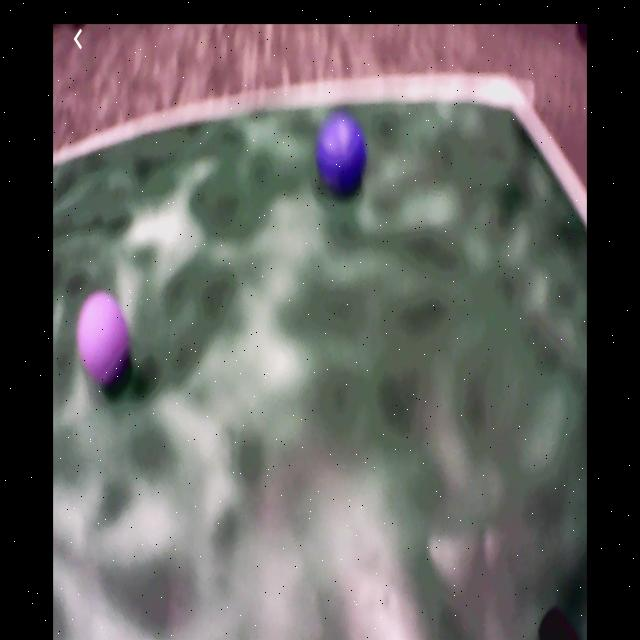ball: (79, 293, 129, 379), (318, 117, 365, 192)
